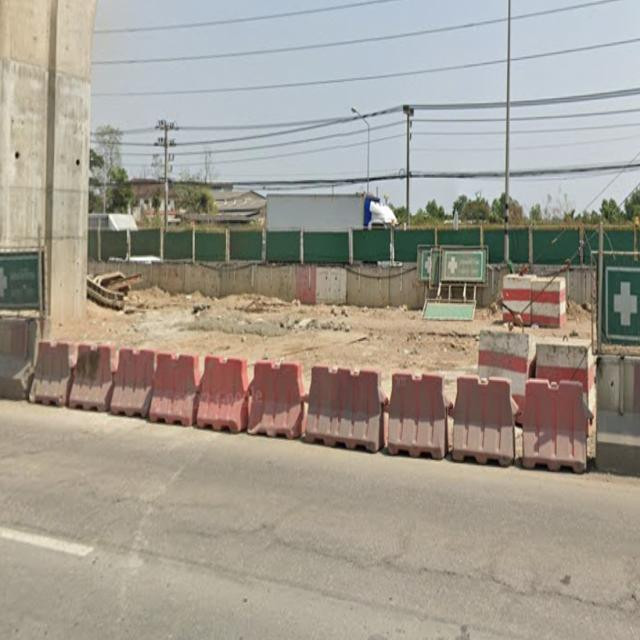fallen_object: (432, 356, 578, 478), (470, 297, 593, 407), (380, 359, 470, 478), (296, 366, 392, 470), (473, 256, 589, 340), (102, 350, 204, 435), (233, 349, 299, 461), (192, 349, 254, 444), (17, 326, 74, 407), (60, 332, 115, 409)
